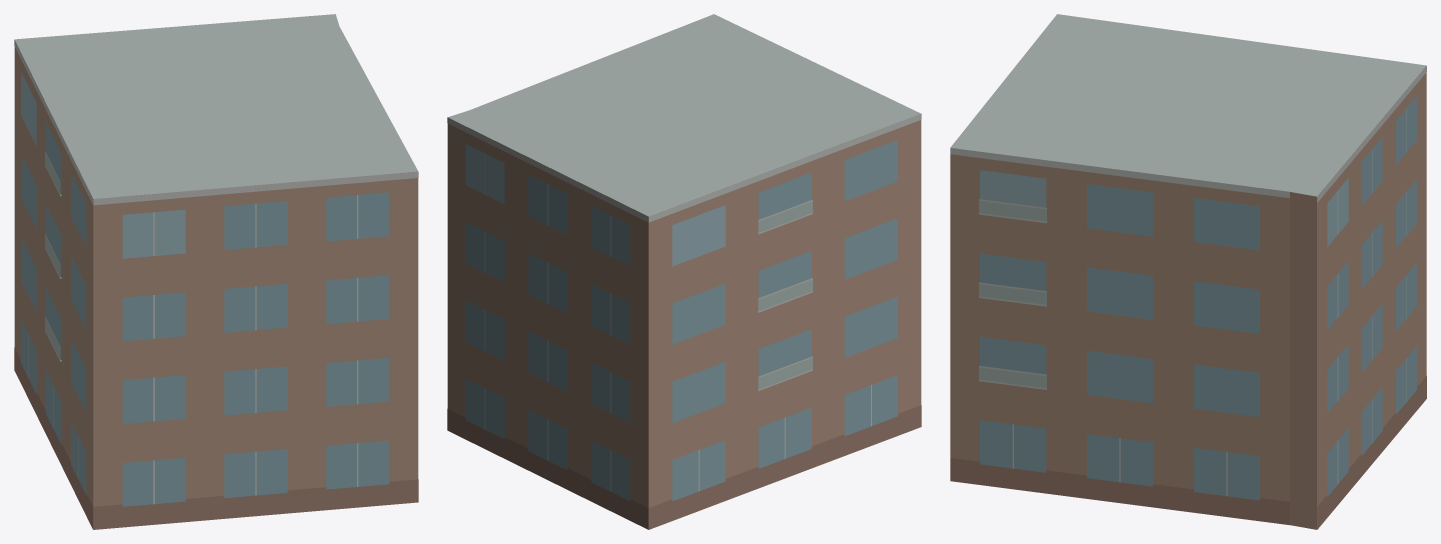
The model's file is survey-upis-32869777.glb.
3 views of the same model, side by side, from view 1: azimuth 30°, elevation 25°; view 2: azimuth 150°, elevation 25°; view 3: azimuth 270°, elevation 25° (orthographic). The views are drawn at different scales.
Visible parts, largest first — view 1: survey-upis-32869777.tmp; view 2: survey-upis-32869777.tmp; view 3: survey-upis-32869777.tmp.
Boxes of the visible parts, <box> form: survey-upis-32869777.tmp: <box>14,14,418,529</box>; survey-upis-32869777.tmp: <box>447,14,921,529</box>; survey-upis-32869777.tmp: <box>950,14,1426,529</box>.
Size of the model in its own units: 14.93 by 12.7 by 16.47.
